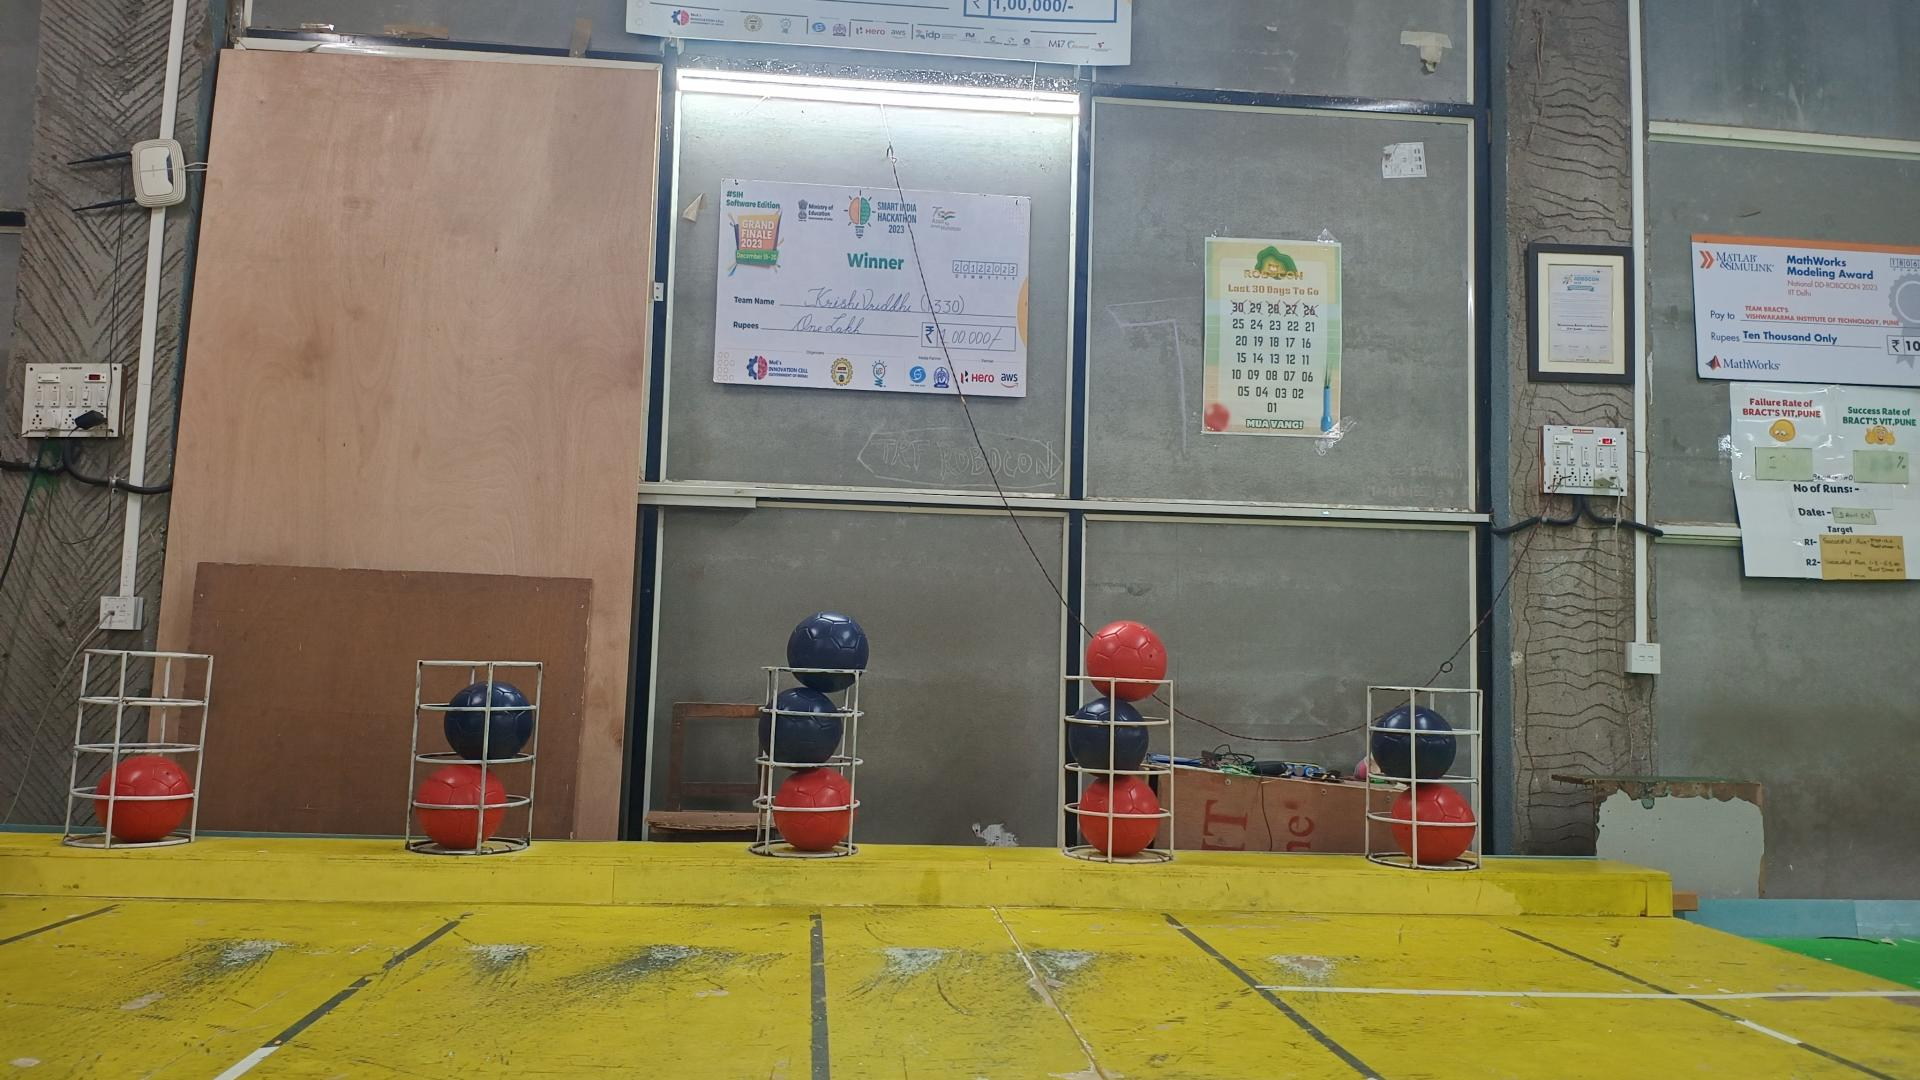dhoka: (446, 679, 537, 757), (787, 612, 870, 694), (1373, 705, 1458, 783), (761, 686, 844, 765), (1068, 698, 1151, 773)
laale: (94, 754, 195, 840), (417, 761, 506, 848), (773, 765, 852, 852), (1391, 787, 1477, 866), (1080, 777, 1159, 858), (1088, 622, 1170, 702)
